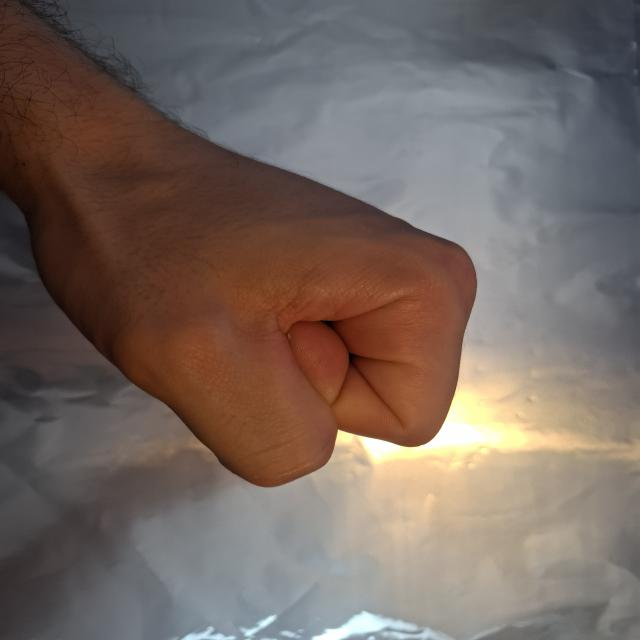glove_off: (19, 124, 480, 490)
